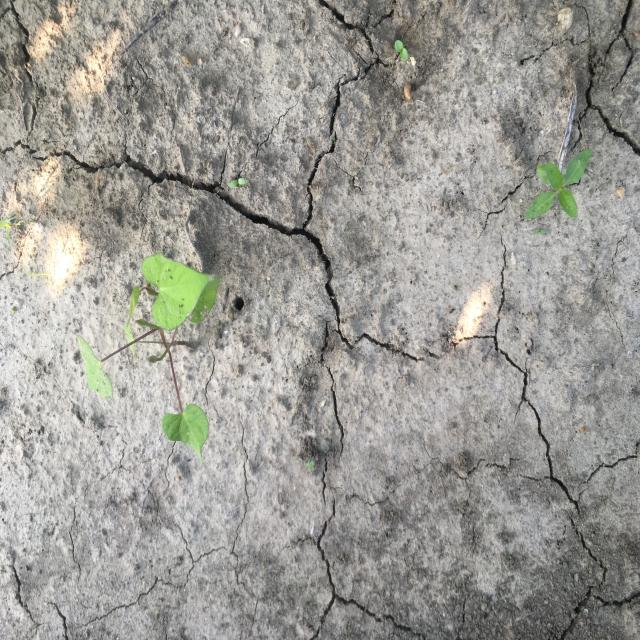Eclipta: (524, 149, 594, 221)
MorningGlory: (74, 251, 223, 468)
